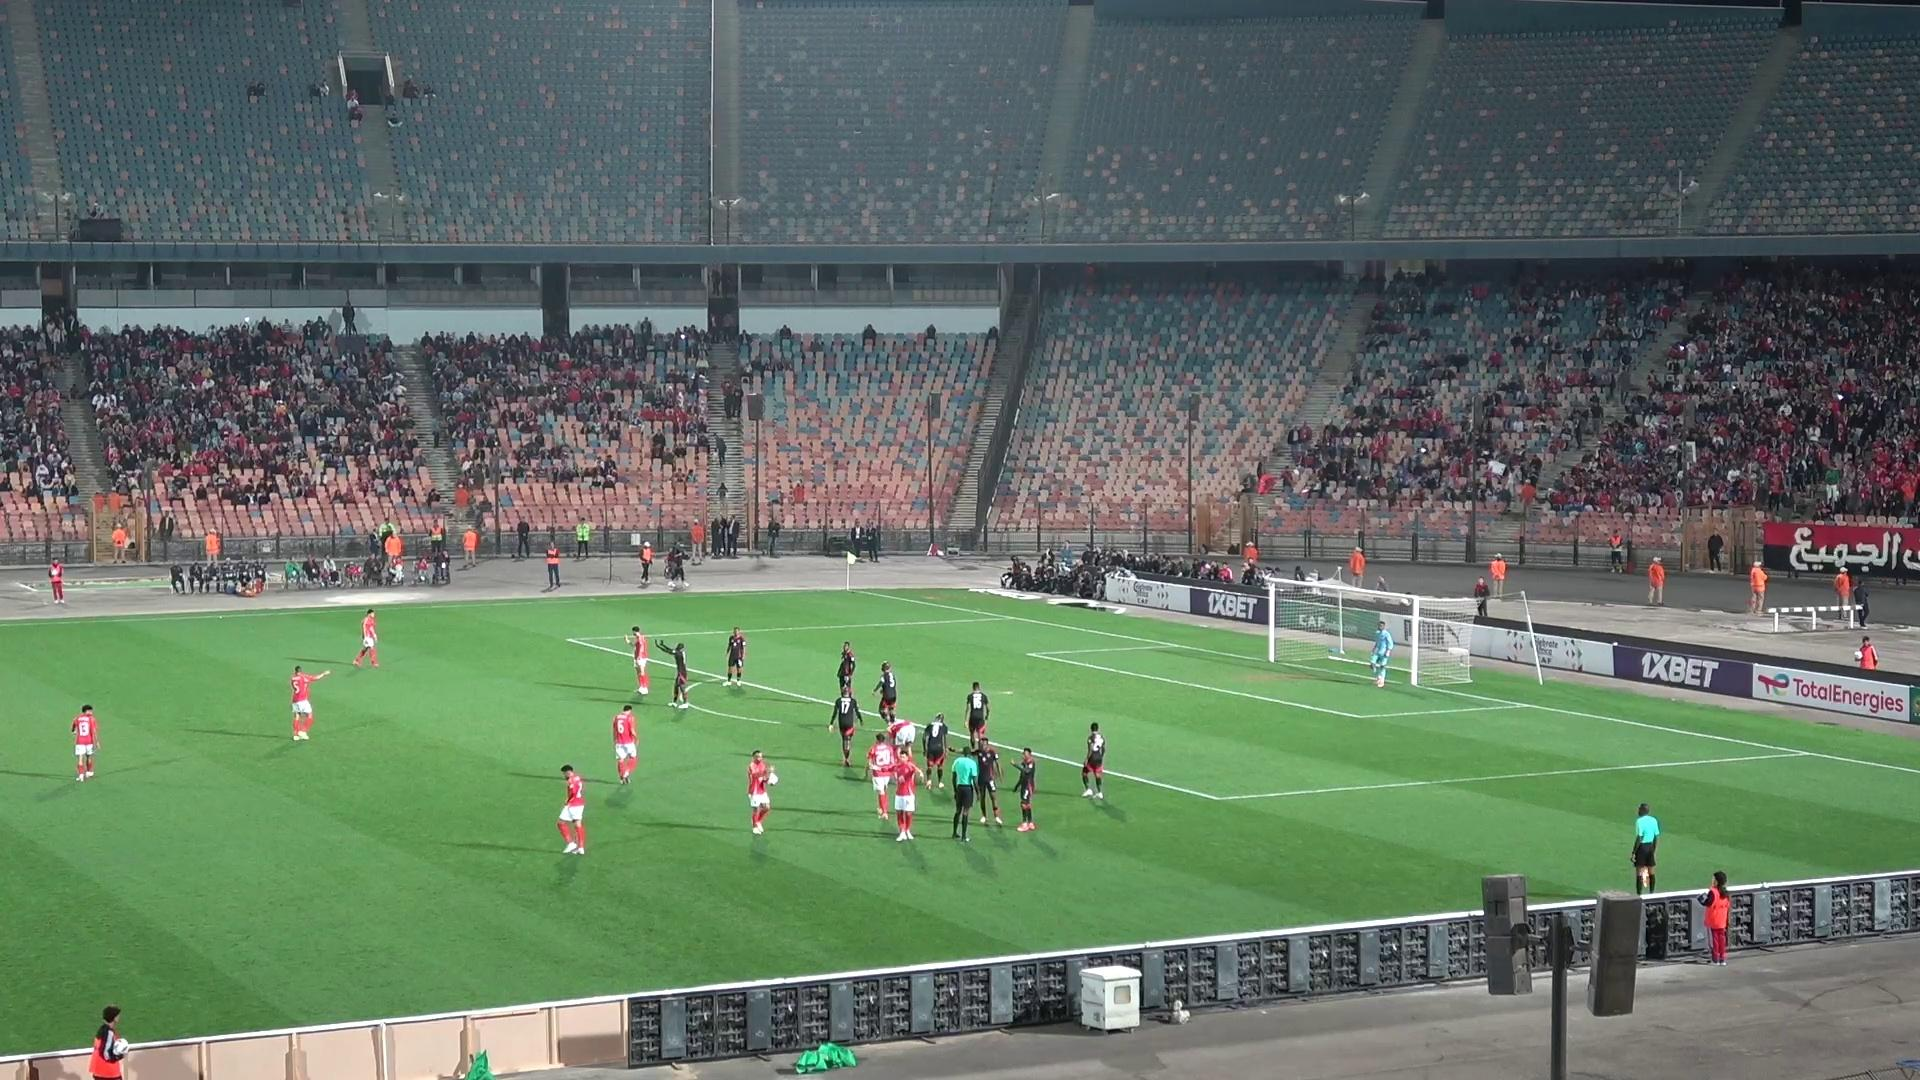GK2: (1369, 620, 1396, 687)
Refree: (1630, 803, 1662, 891), (949, 750, 977, 841)
Team1: (891, 744, 926, 840), (291, 666, 330, 741), (745, 750, 778, 835), (556, 764, 585, 855), (866, 728, 895, 819), (611, 705, 638, 785), (71, 704, 99, 781), (626, 626, 651, 700), (352, 608, 380, 667), (882, 719, 916, 754)
Team2: (828, 680, 860, 766), (972, 736, 1001, 825), (658, 642, 694, 707), (1079, 723, 1106, 799), (922, 715, 949, 789), (1013, 748, 1036, 832), (963, 680, 992, 741), (719, 626, 746, 684), (873, 662, 897, 724), (835, 642, 857, 698)
